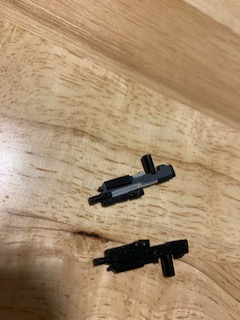rifle: (87, 153, 177, 209), (92, 236, 192, 281)
